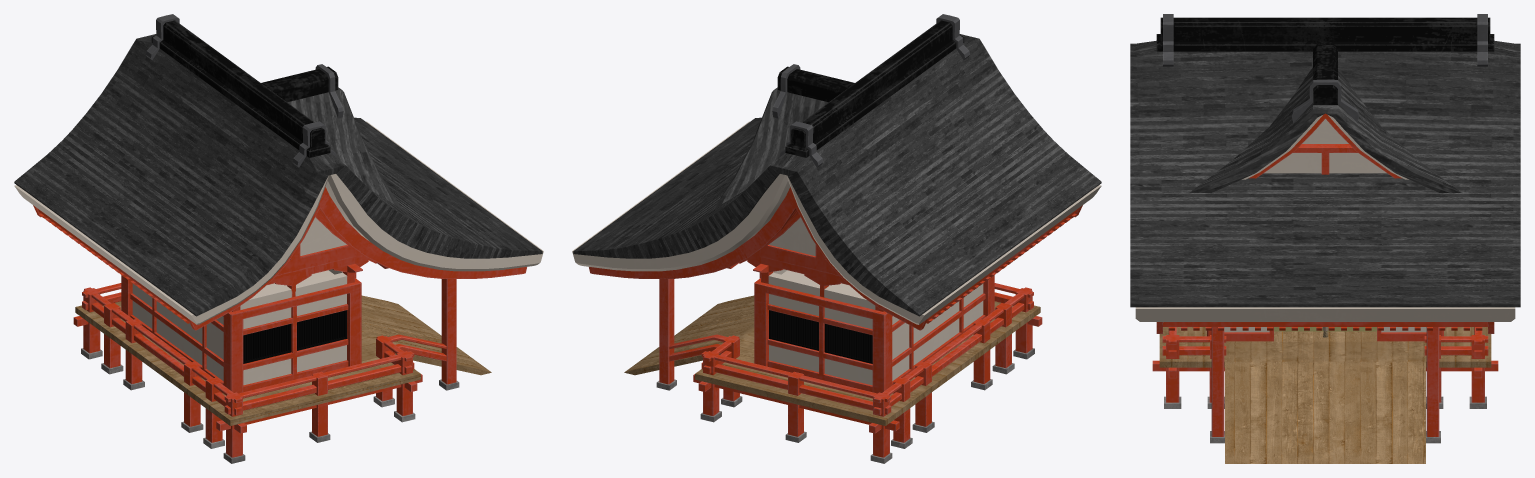
Rendered from Honden.fbx.
3 views of the same model, side by side, from view 1: azimuth 30°, elevation 25°; view 2: azimuth 150°, elevation 25°; view 3: azimuth 270°, elevation 25° (orthographic). The views are drawn at different scales.
Parts seen in each view (by area): view 1: yane, base, waku; view 2: yane, base, waku; view 3: yane, waku, base.
Boxes of the visible parts, left/top/right/bottom form: yane: left=14, top=14, right=543, bottom=330; base: left=73, top=214, right=456, bottom=457; waku: left=75, top=295, right=491, bottom=463; yane: left=572, top=14, right=1101, bottom=330; base: left=659, top=214, right=1042, bottom=457; waku: left=624, top=295, right=1040, bottom=463; yane: left=1130, top=14, right=1520, bottom=333; waku: left=1159, top=327, right=1491, bottom=463; base: left=1152, top=327, right=1498, bottom=436.
Size of the model in its own units: 387 by 332 by 346.
3 materials, 3 textured.
